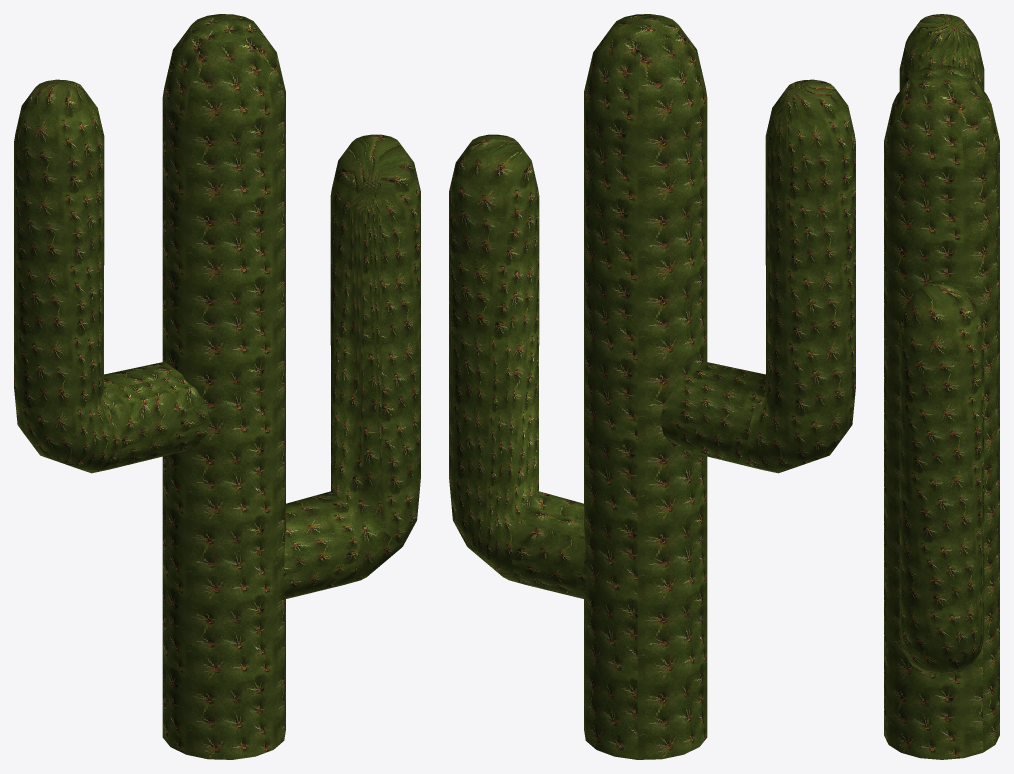
File: cactus1.fbx
The picture shows the model from 3 angles, left to right: view 1: azimuth 30°, elevation 25°; view 2: azimuth 150°, elevation 25°; view 3: azimuth 270°, elevation 25°; orthographic projection. The views are drawn at different scales.
Visible parts, largest first — view 1: Cylinder; view 2: Cylinder; view 3: Cylinder.
Part boxes in pixels (x1,y1,x2,y2): Cylinder: [14, 14, 420, 759]; Cylinder: [449, 14, 855, 759]; Cylinder: [884, 14, 999, 759].
Size of the model in its own units: 388 by 669 by 106.
Materials: 1 (1 with a texture image).
